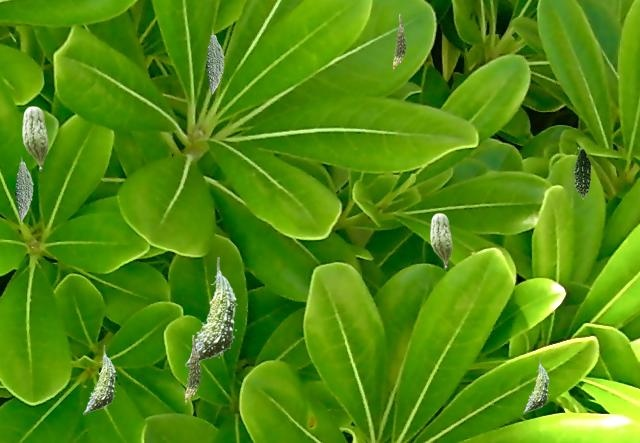ampalaya: (185, 257, 236, 365), (83, 345, 115, 413), (22, 106, 47, 170), (523, 357, 548, 412), (430, 213, 451, 268), (206, 29, 223, 93), (15, 156, 32, 220), (185, 335, 200, 403), (574, 147, 591, 198), (393, 14, 405, 69)
